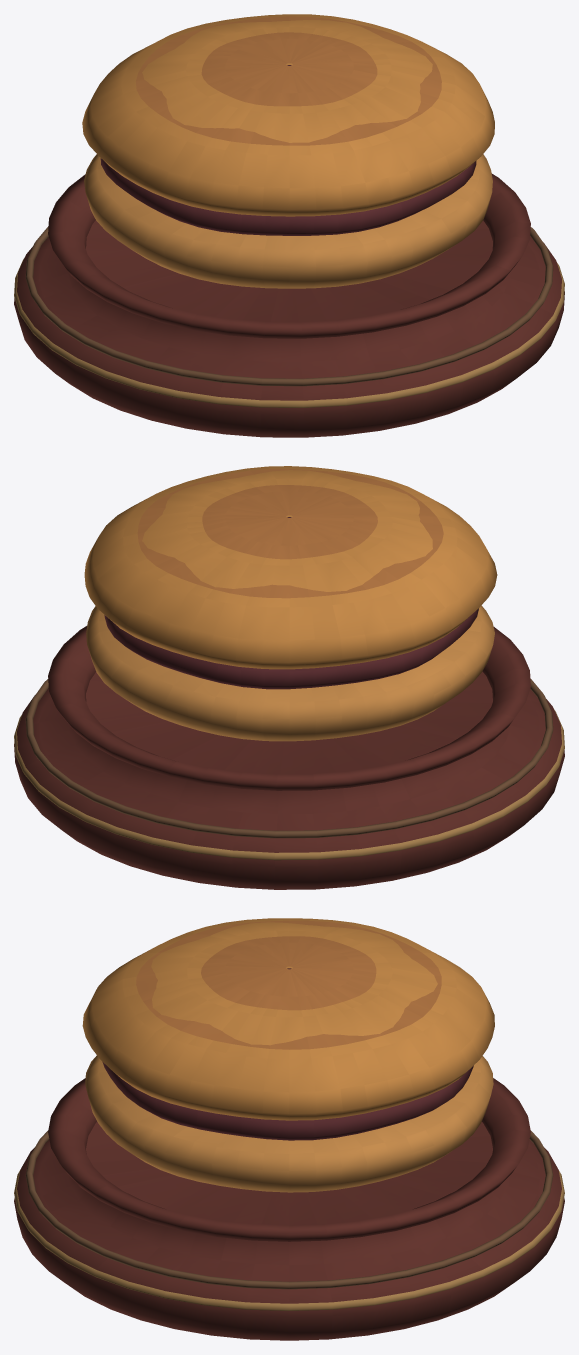
File: dorayaki.glb
3 views of the same model, one above another, from view 1: azimuth 30°, elevation 25°; view 2: azimuth 150°, elevation 25°; view 3: azimuth 270°, elevation 25° (orthographic).
Visible parts, largest first — view 1: Shared_burgundy_dessert_plate, Dorayaki_upper_golden_bun, Dorayaki_lower_soft_bun, Dorayaki_warm_browned_top, Dorayaki_dark_red_bean_filling, Shared_deep_recessed_band, Shared_antique_brass_outer_rim; view 2: Shared_burgundy_dessert_plate, Dorayaki_upper_golden_bun, Dorayaki_lower_soft_bun, Dorayaki_warm_browned_top, Dorayaki_dark_red_bean_filling, Shared_deep_recessed_band, Shared_antique_brass_outer_rim; view 3: Shared_burgundy_dessert_plate, Dorayaki_upper_golden_bun, Dorayaki_lower_soft_bun, Dorayaki_warm_browned_top, Dorayaki_dark_red_bean_filling, Shared_deep_recessed_band, Shared_antique_brass_outer_rim.
Part boxes in pixels (bbox=[...]): Shared_burgundy_dessert_plate: bbox=[14, 173, 564, 437]; Dorayaki_upper_golden_bun: bbox=[82, 14, 494, 216]; Dorayaki_lower_soft_bun: bbox=[84, 154, 492, 288]; Dorayaki_warm_browned_top: bbox=[135, 16, 441, 145]; Dorayaki_dark_red_bean_filling: bbox=[100, 65, 476, 235]; Shared_deep_recessed_band: bbox=[25, 226, 553, 386]; Shared_antique_brass_outer_rim: bbox=[14, 258, 564, 407]; Shared_burgundy_dessert_plate: bbox=[14, 626, 564, 889]; Dorayaki_upper_golden_bun: bbox=[84, 466, 497, 669]; Dorayaki_lower_soft_bun: bbox=[86, 605, 494, 741]; Dorayaki_warm_browned_top: bbox=[137, 469, 443, 598]; Dorayaki_dark_red_bean_filling: bbox=[104, 517, 478, 689]; Shared_deep_recessed_band: bbox=[25, 678, 553, 838]; Shared_antique_brass_outer_rim: bbox=[14, 709, 564, 860]; Shared_burgundy_dessert_plate: bbox=[14, 1078, 564, 1340]; Dorayaki_upper_golden_bun: bbox=[82, 918, 494, 1120]; Dorayaki_lower_soft_bun: bbox=[85, 1055, 493, 1192]; Dorayaki_warm_browned_top: bbox=[136, 920, 441, 1049]; Dorayaki_dark_red_bean_filling: bbox=[102, 968, 473, 1140]; Shared_deep_recessed_band: bbox=[25, 1130, 553, 1289]; Shared_antique_brass_outer_rim: bbox=[14, 1170, 564, 1310].
Bounding box in the file's own units: 0.858 × 0.457 × 0.858.
